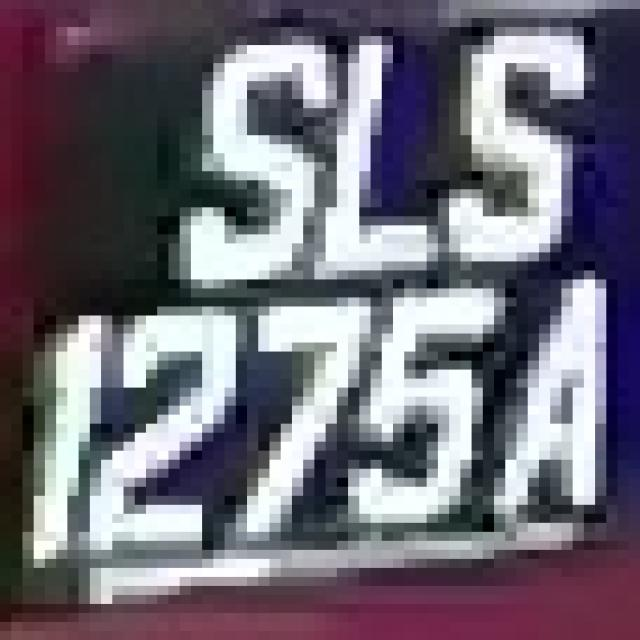1: (45, 279, 123, 595)
2: (101, 270, 236, 559)
5: (359, 279, 494, 541)
7: (224, 261, 370, 559)
A: (483, 261, 617, 550)
L: (303, 0, 460, 315)
S: (427, 18, 618, 279), (180, 27, 336, 288)
